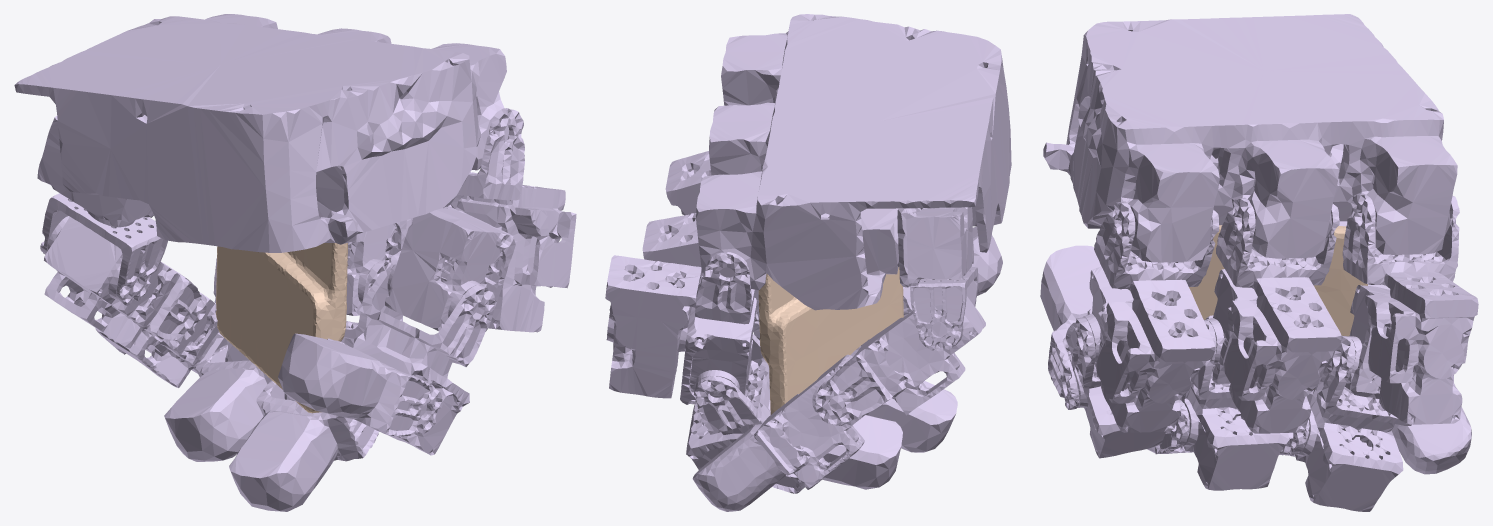
3 renders of one model, left to right at view 1: azimuth 30°, elevation 25°; view 2: azimuth 150°, elevation 25°; view 3: azimuth 270°, elevation 25°, orthographic. The views are drawn at different scales.
Visible parts, largest first — view 1: LEAP_hand, world; view 2: LEAP_hand, world; view 3: LEAP_hand, world.
Boxes of the visible parts, x1,y1,x2,y2 form: LEAP_hand: [14, 14, 576, 511]; world: [215, 243, 347, 413]; LEAP_hand: [605, 14, 1011, 511]; world: [758, 267, 903, 414]; LEAP_hand: [1040, 14, 1478, 511]; world: [1189, 225, 1367, 389].
Bounding box in the file's own units: 0.1636 × 0.1534 × 0.1493.
